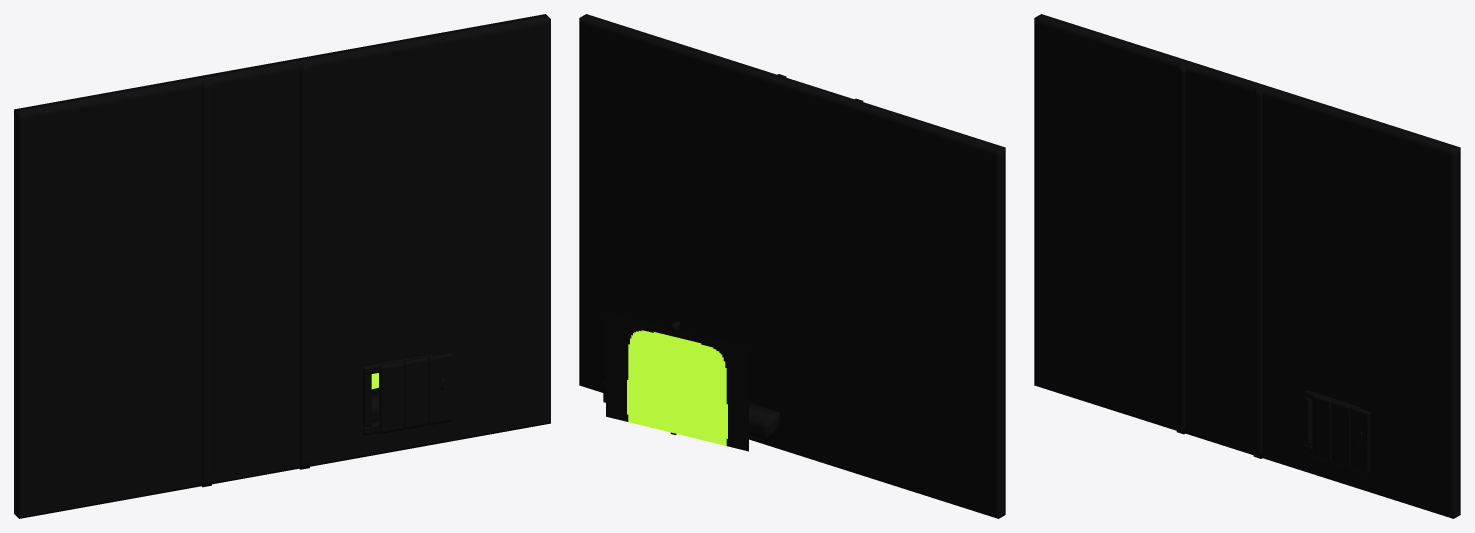
The picture shows the model from 3 angles, left to right: view 1: azimuth 30°, elevation 25°; view 2: azimuth 150°, elevation 25°; view 3: azimuth 330°, elevation 25°; orthographic projection. The views are drawn at different scales.
Parts seen in each view (by area): view 1: kabe, kizai, itado; view 2: kabe, akari, shitsunai; view 3: kabe, kizai, itado.
Part boxes in pixels (bbox=[...]): kabe: bbox=[14, 14, 550, 518]; kizai: bbox=[201, 62, 432, 487]; itado: bbox=[379, 352, 452, 433]; kabe: bbox=[579, 14, 1005, 518]; akari: bbox=[606, 312, 748, 451]; shitsunai: bbox=[603, 321, 779, 441]; kabe: bbox=[1034, 14, 1460, 518]; kizai: bbox=[1176, 63, 1359, 458]; itado: bbox=[1312, 394, 1370, 474].
Bounding box in the file's own units: 6.65 × 5.2 × 0.9784.
